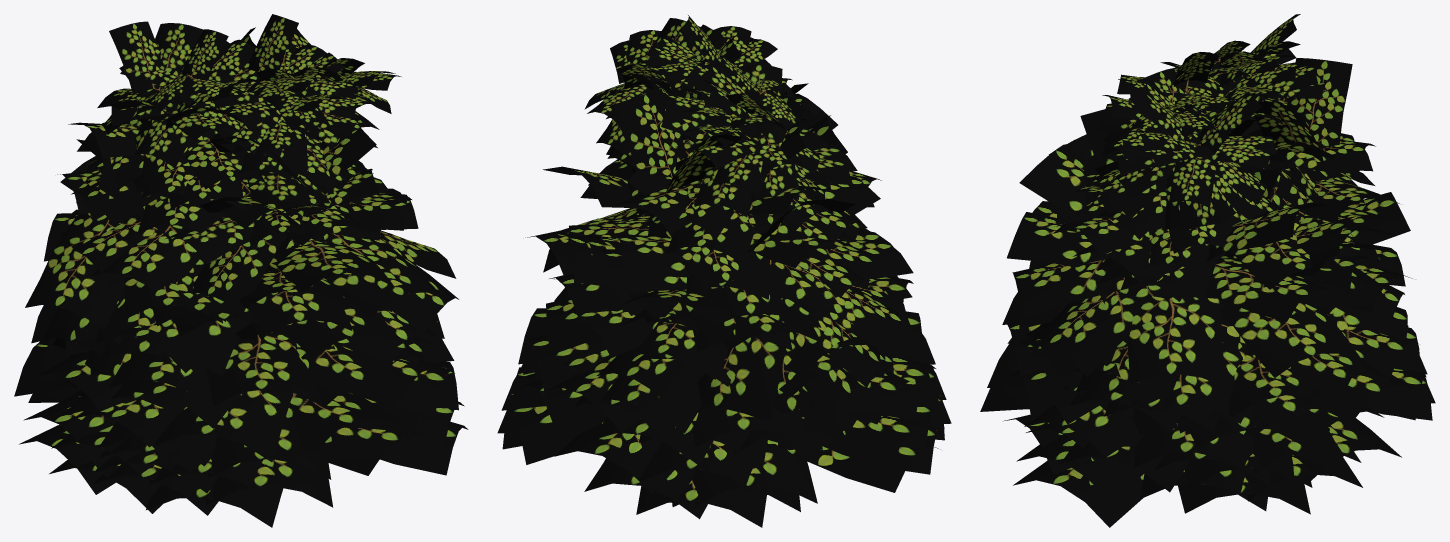
The model's file is Bush3.fbx.
3 renders of one model, left to right at view 1: azimuth 30°, elevation 25°; view 2: azimuth 150°, elevation 25°; view 3: azimuth 270°, elevation 25°, orthographic.
Visible parts, largest first — view 1: Bush3_LOD0; view 2: Bush3_LOD0; view 3: Bush3_LOD0.
Part boxes in pixels (x1,y1,x2,y2): Bush3_LOD0: [14, 14, 468, 527]; Bush3_LOD0: [497, 15, 951, 527]; Bush3_LOD0: [980, 14, 1435, 527].
Bounding box in the file's own units: 288 × 298 × 295.
2 materials, 2 textured.
